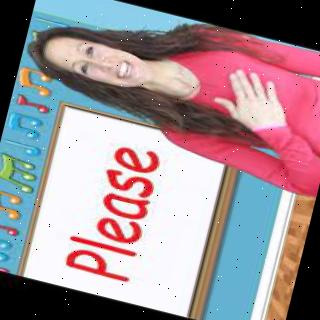Please: (175, 52, 316, 163)
